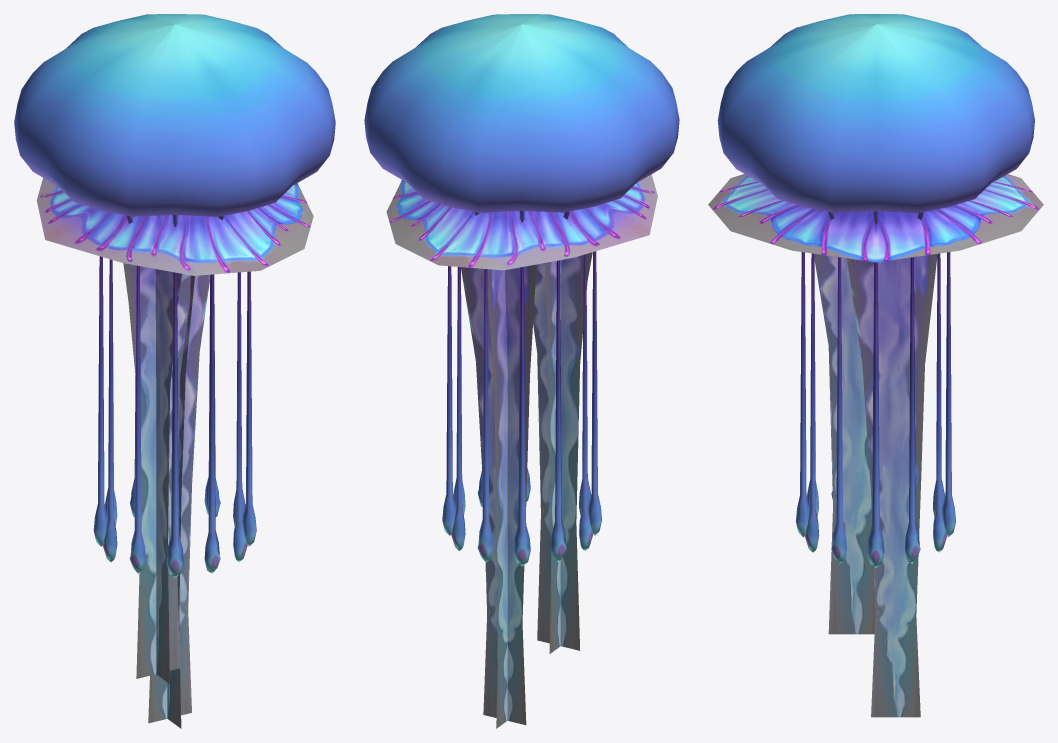
File: medusa.obj
3 renders of one model, left to right at view 1: azimuth 30°, elevation 25°; view 2: azimuth 150°, elevation 25°; view 3: azimuth 270°, elevation 25°, orthographic. The views are drawn at different scales.
Visible parts, largest first — view 1: v_body; view 2: v_body; view 3: v_body.
Part boxes in pixels (<box>): v_body: <box>14,14,335,728</box>; v_body: <box>364,14,679,728</box>; v_body: <box>708,14,1043,717</box>.
Size of the model in its own units: 88.47 by 223 by 98.12.
2 materials, 2 textured.
